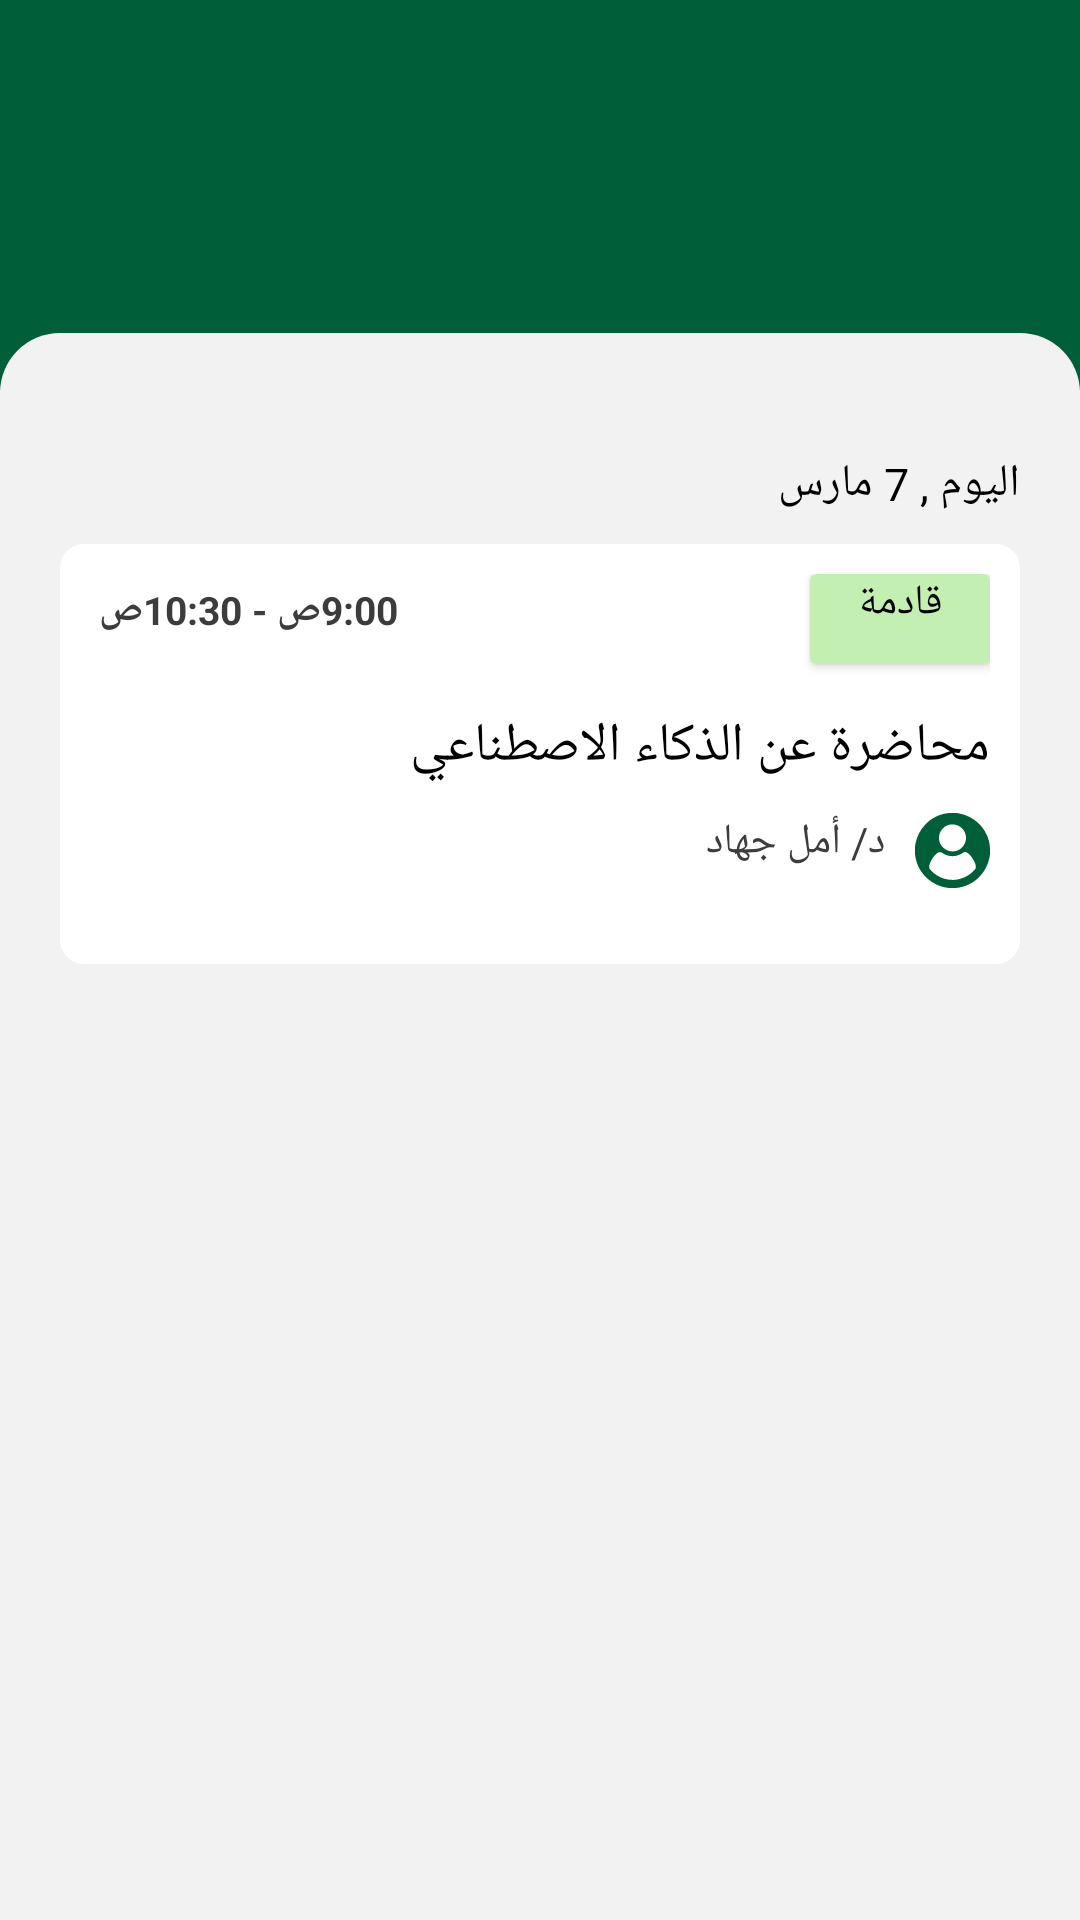

Icons on this 1080 x 1920 Android screen, each with the point to tap as point (x, y):
user: point (952, 850)
